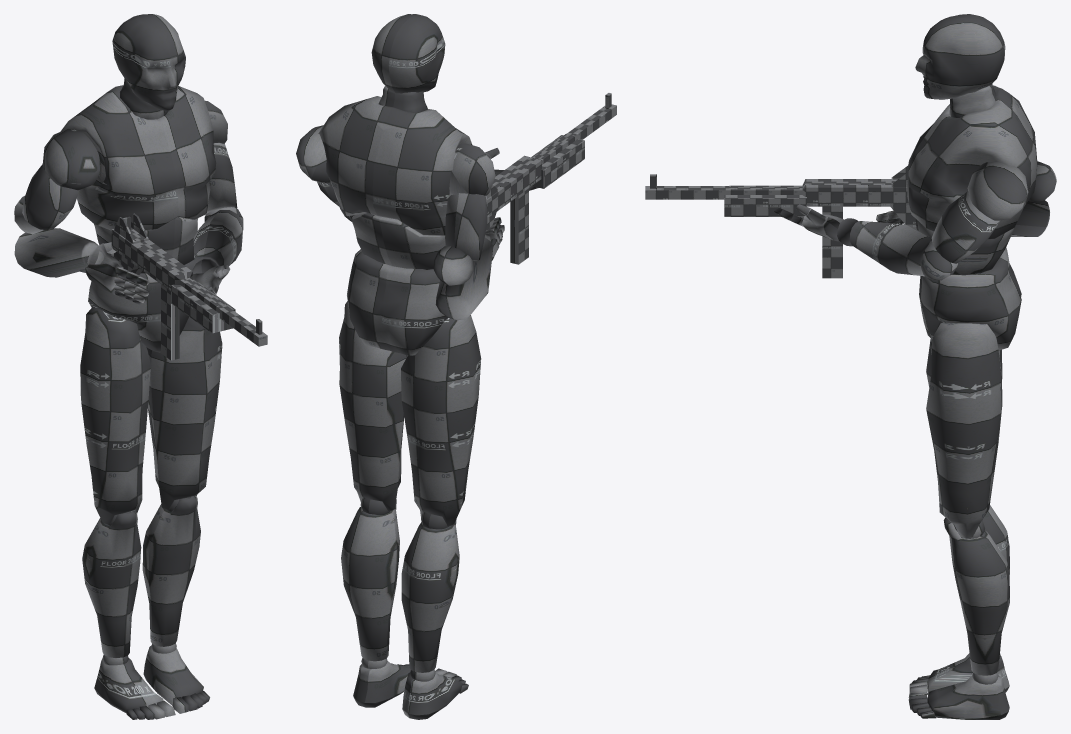
File: SK_enemy_a.fbx
The picture shows the model from 3 angles, left to right: view 1: azimuth 30°, elevation 25°; view 2: azimuth 150°, elevation 25°; view 3: azimuth 270°, elevation 25°; orthographic projection.
Visible parts, largest first — view 1: Mesh7; view 2: Mesh7; view 3: Mesh7.
Part boxes in pixels (x1=…): Mesh7: x1=14, y1=14, x2=267, y2=719; Mesh7: x1=296, y1=14, x2=616, y2=719; Mesh7: x1=645, y1=14, x2=1056, y2=719.
Bounding box in the file's own units: 0.5432 × 1.85 × 1.01.
